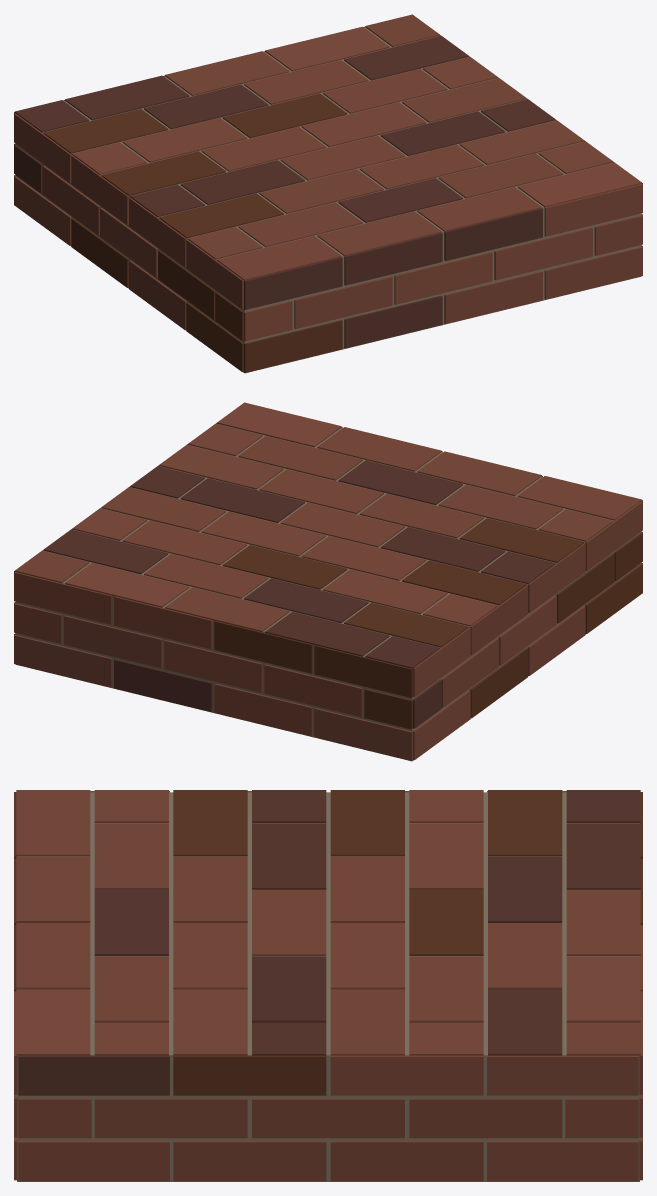
File: piece_foundation_brick.fbx
3 renders of one model, top to bottom at view 1: azimuth 30°, elevation 25°; view 2: azimuth 150°, elevation 25°; view 3: azimuth 270°, elevation 25°, orthographic. The views are drawn at different scales.
Parts seen in each view (by area): view 1: piece_foundation_brick; view 2: piece_foundation_brick; view 3: piece_foundation_brick.
Part boxes in pixels (x1,y1,x2,y2): piece_foundation_brick: (14,14,642,373); piece_foundation_brick: (14,402,642,761); piece_foundation_brick: (14,790,642,1181).
Bounding box in the file's own units: 2 × 0.45 × 2.
